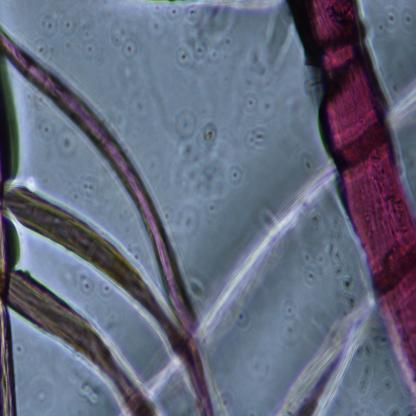Background material: (201, 158, 332, 345), (279, 296, 373, 416), (149, 2, 236, 70), (170, 108, 230, 198), (35, 11, 96, 57), (323, 246, 363, 308), (372, 7, 414, 41), (111, 20, 139, 58), (54, 128, 79, 158), (245, 126, 270, 148)
Microfibre: (0, 27, 198, 335), (296, 0, 416, 390), (3, 185, 207, 414), (6, 270, 156, 415), (0, 173, 18, 416)
